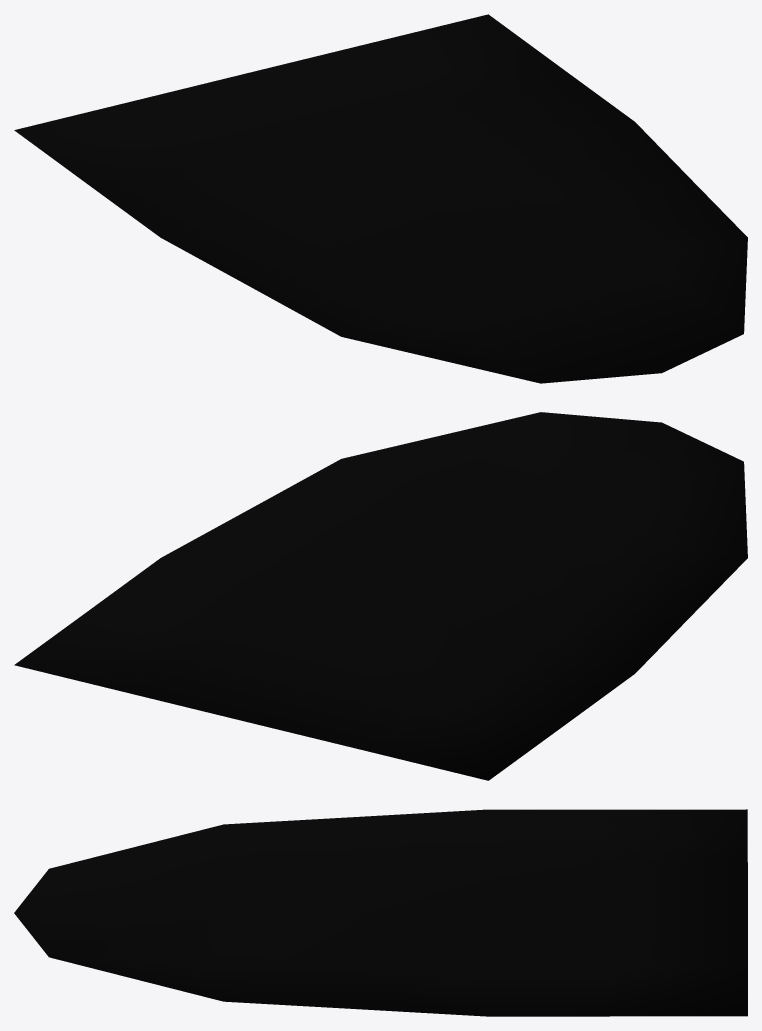
3 views of the same model, one above another, from view 1: azimuth 30°, elevation 25°; view 2: azimuth 150°, elevation 25°; view 3: azimuth 270°, elevation 25° (orthographic). The views are drawn at different scales.
Visible parts, largest first — view 1: T1L1M004_0; view 2: T1L1M004_0; view 3: T1L1M004_0.
Boxes of the visible parts, x1,y1,x2,y2 form: T1L1M004_0: [14, 14, 747, 383]; T1L1M004_0: [14, 412, 747, 780]; T1L1M004_0: [14, 809, 747, 1016].
Bounding box in the file's own units: 2.8 × 0.000977 × 4.2.
